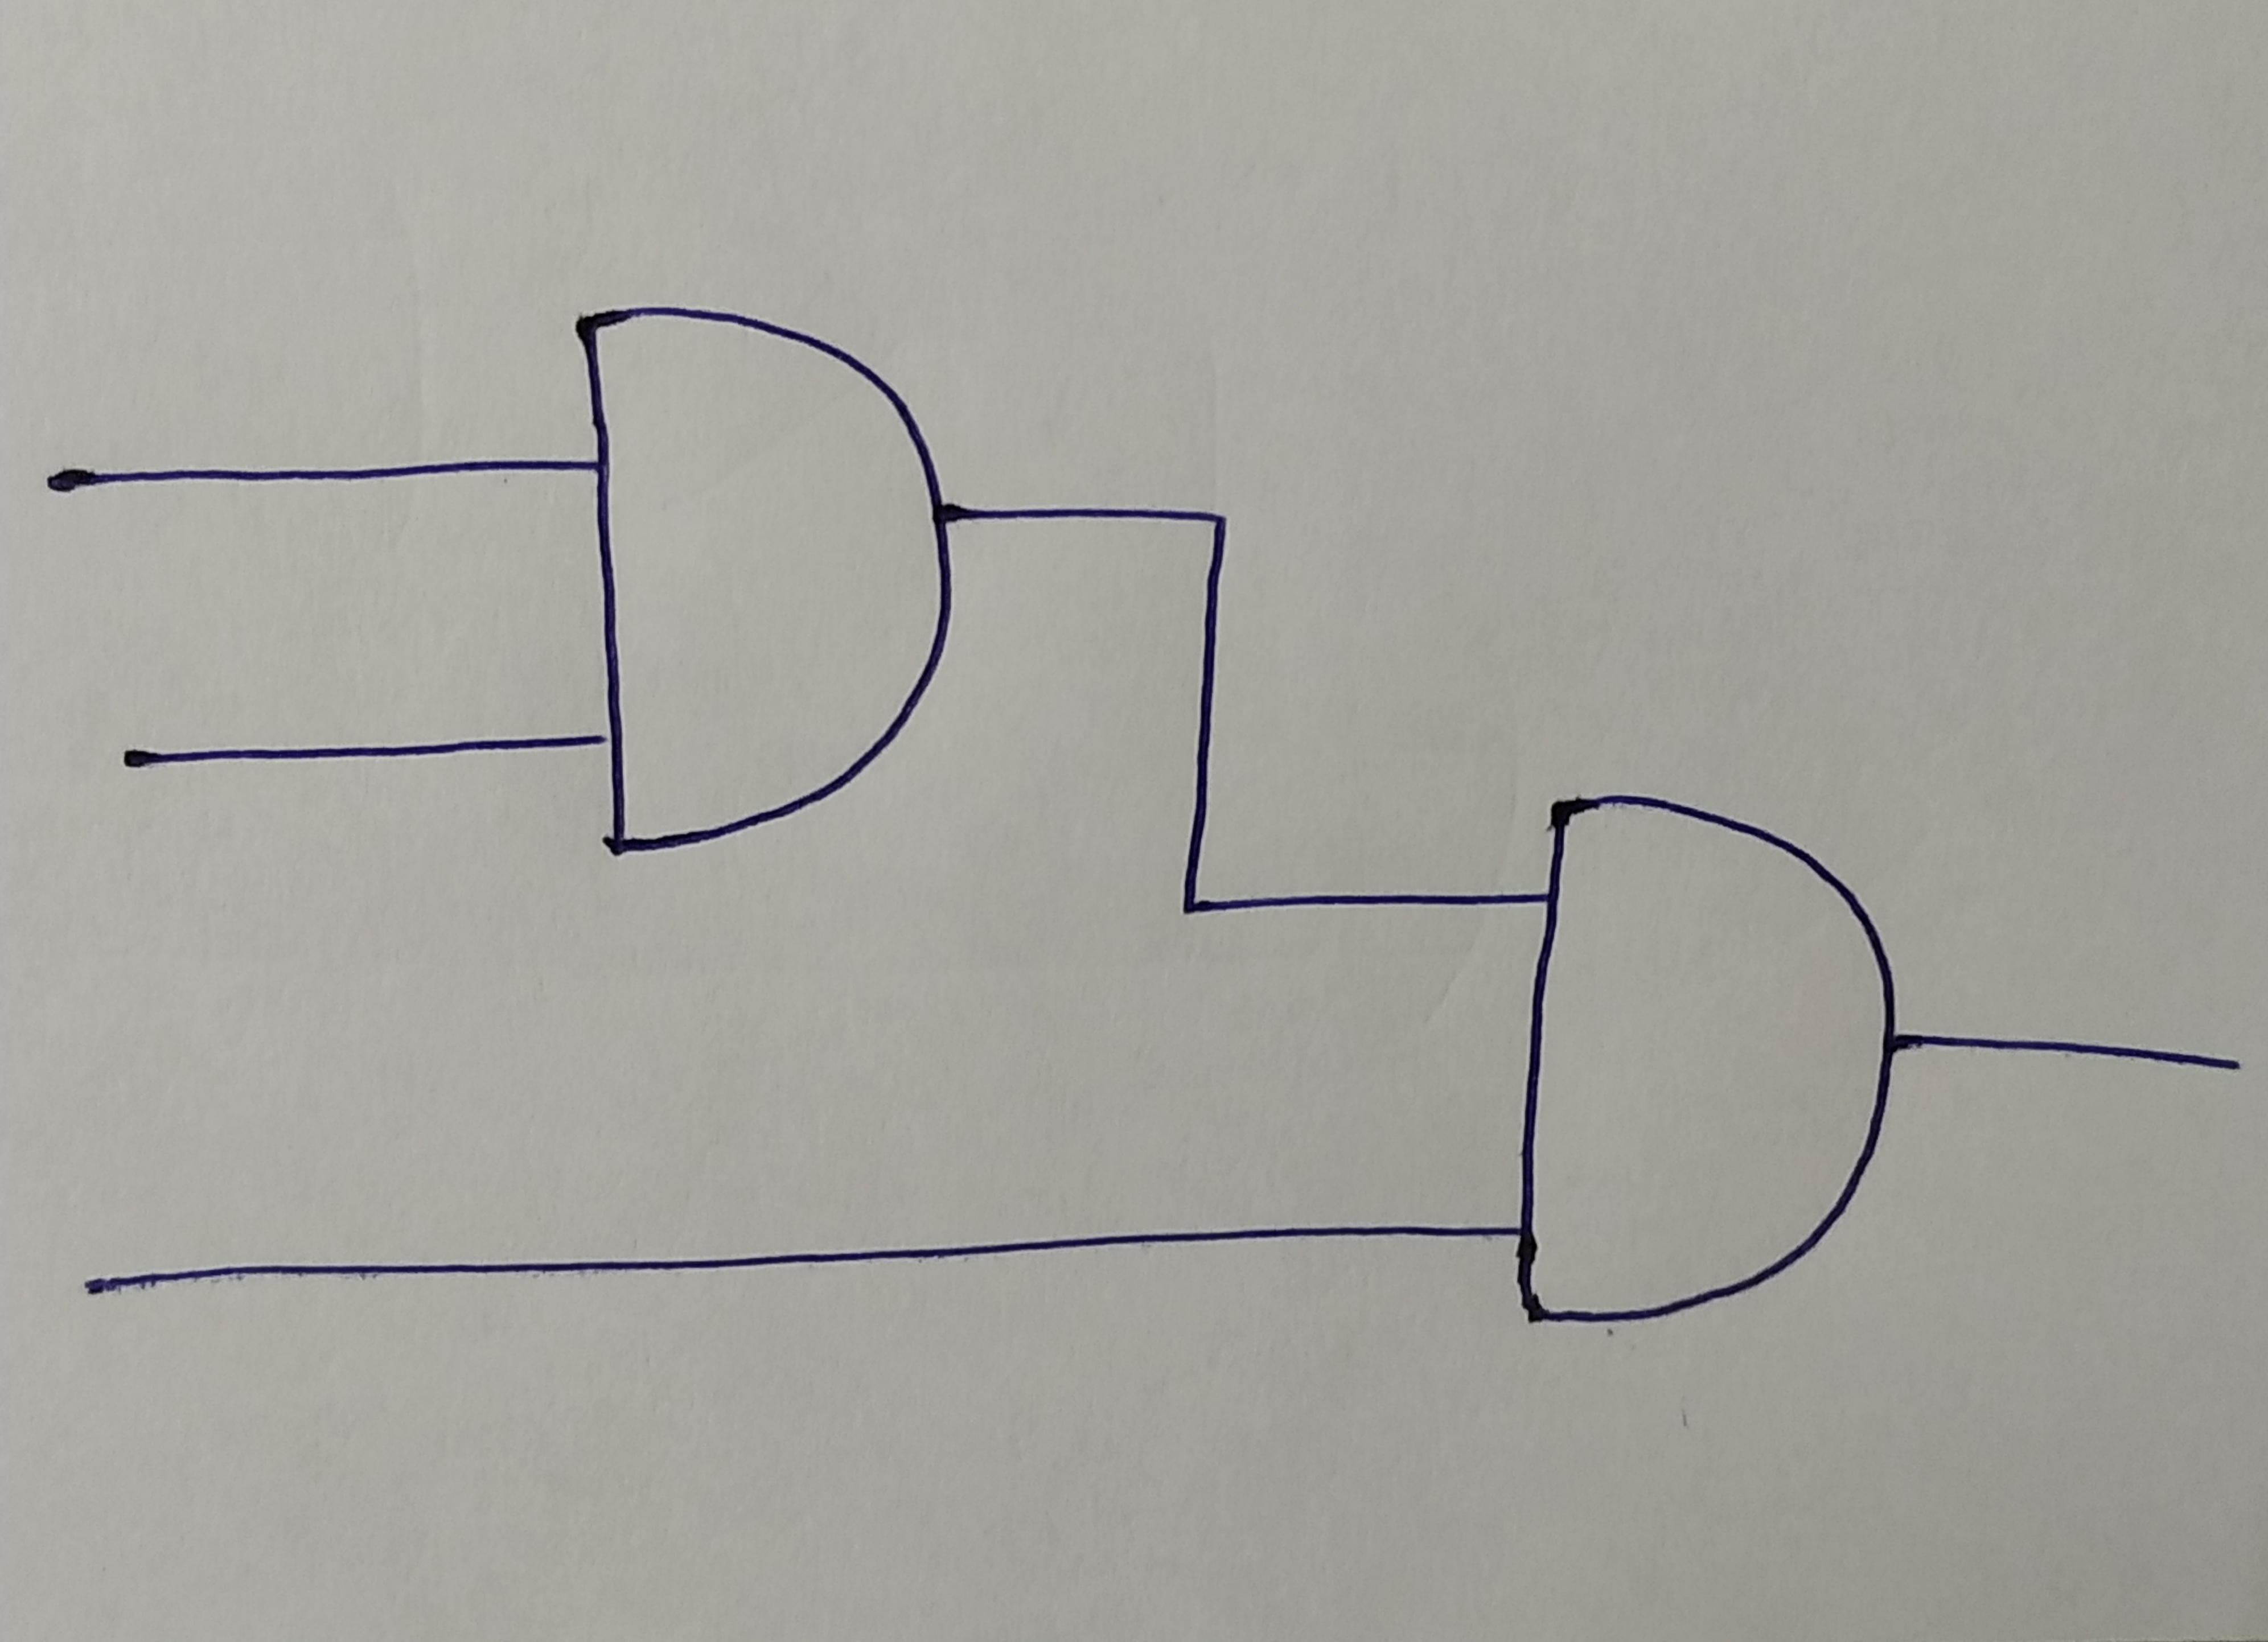and: (572, 304, 949, 852), (1525, 801, 1889, 1318)
